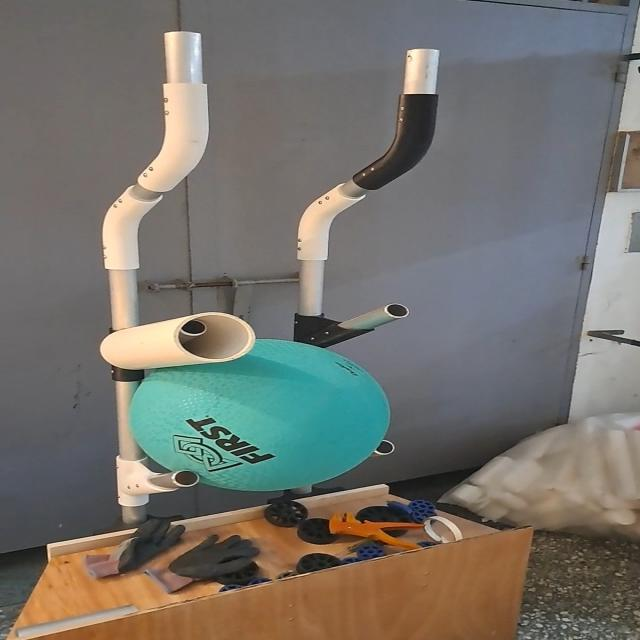ALGAE: (126, 335, 394, 494)
CORAL: (91, 310, 260, 371)
